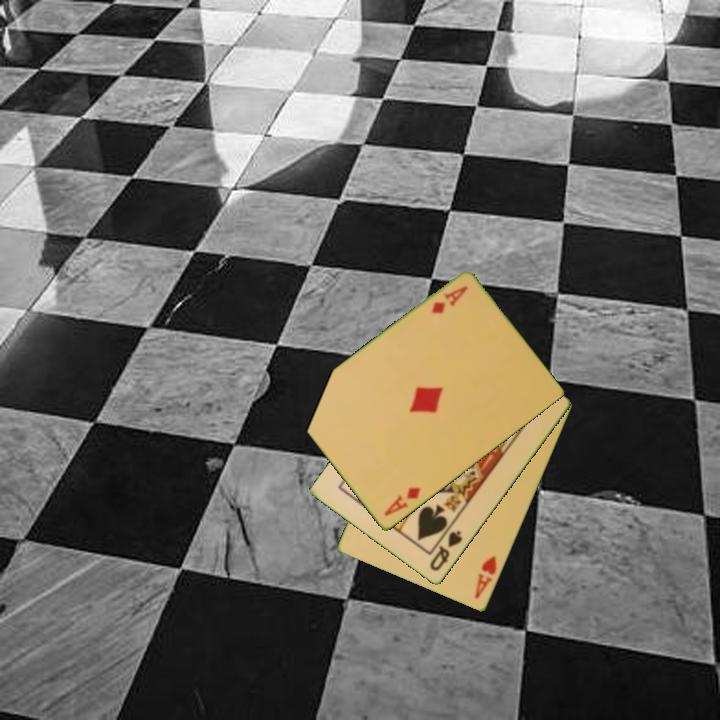Ad: (380, 484, 423, 520), (428, 283, 471, 317)
Ah: (471, 552, 500, 602)
Qs: (426, 527, 465, 574)
